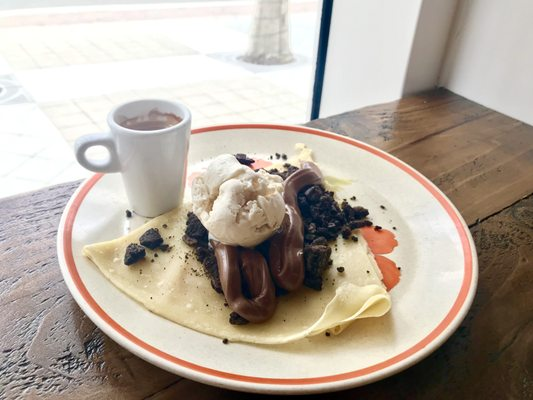pizza: (74, 98, 192, 219)
